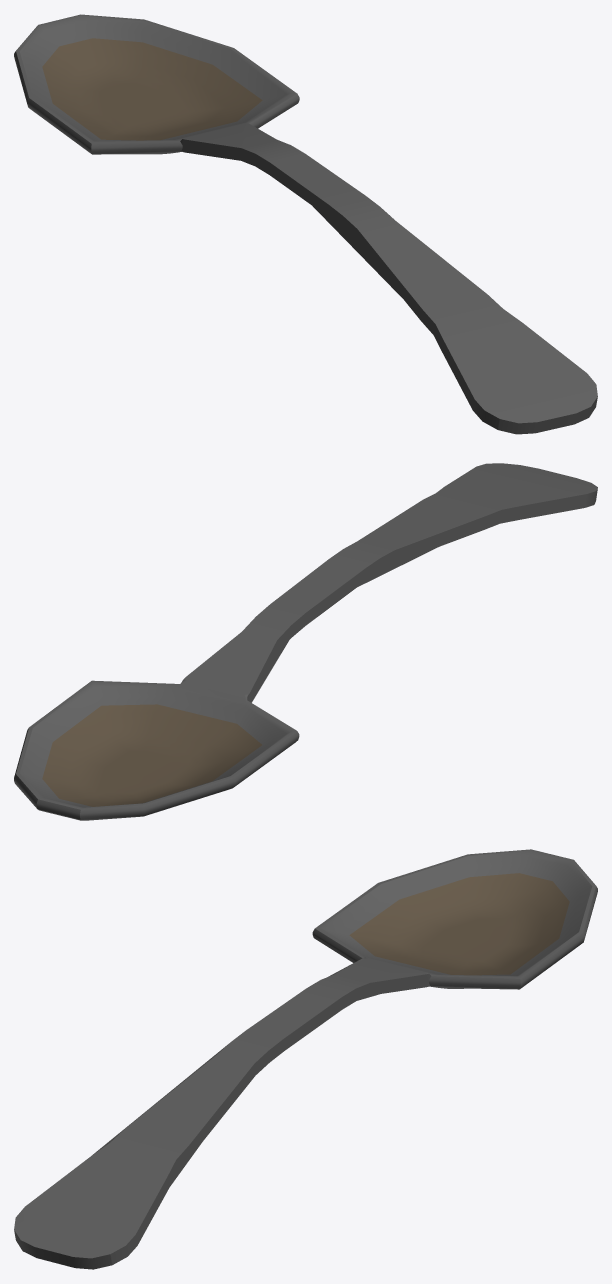
Rendered from Meth Spoon.fbx.
3 renders of one model, top to bottom at view 1: azimuth 30°, elevation 25°; view 2: azimuth 150°, elevation 25°; view 3: azimuth 330°, elevation 25°, orthographic.
Visible parts, largest first — view 1: pCube1; view 2: pCube1; view 3: pCube1.
Part boxes in pixels (bbox=[...]): pCube1: bbox=[14, 14, 597, 434]; pCube1: bbox=[14, 463, 597, 820]; pCube1: bbox=[14, 849, 597, 1269].
Bounding box in the file's own units: 1.96 × 0.6839 × 8.12.
